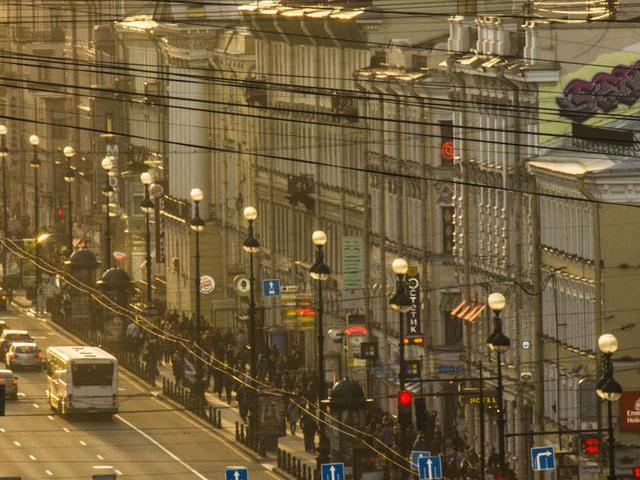bus: (50, 343, 120, 424)
